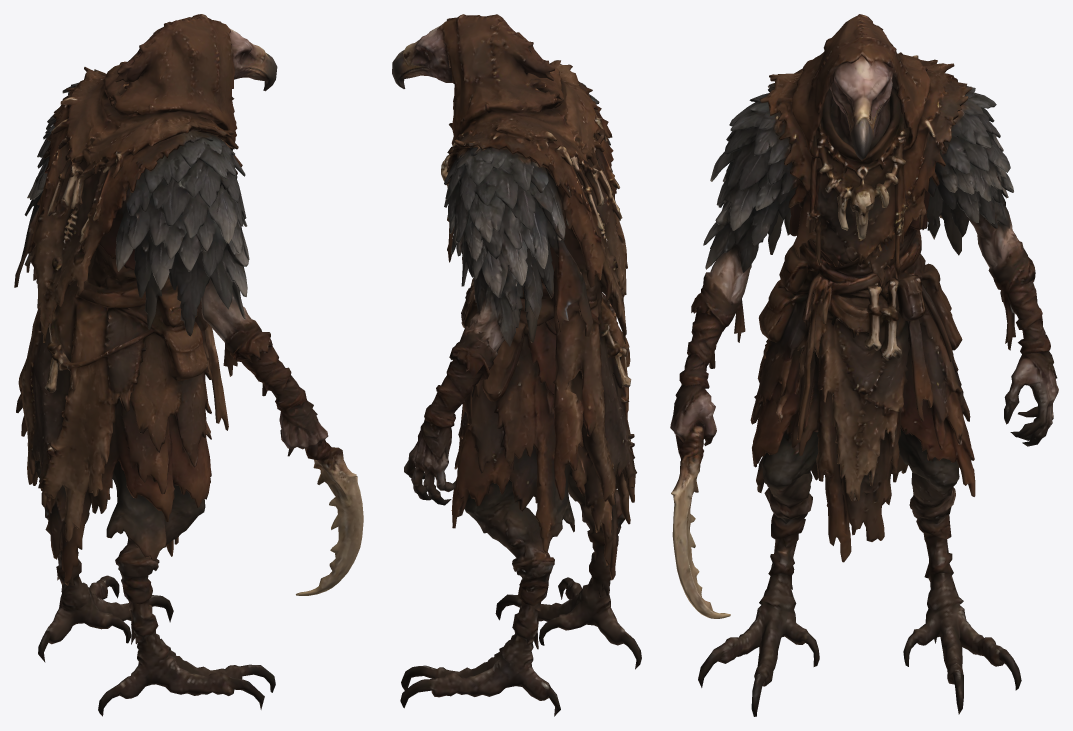
Rendered from BonePicker-tripo.glb.
3 renders of one model, left to right at view 1: azimuth 30°, elevation 25°; view 2: azimuth 150°, elevation 25°; view 3: azimuth 270°, elevation 25°, orthographic. The views are drawn at different scales.
Visible parts, largest first — view 1: tripo_node_38c709bd-18d4-4903-a3d4-74aa33c75d45; view 2: tripo_node_38c709bd-18d4-4903-a3d4-74aa33c75d45; view 3: tripo_node_38c709bd-18d4-4903-a3d4-74aa33c75d45.
Part boxes in pixels (<box>): tripo_node_38c709bd-18d4-4903-a3d4-74aa33c75d45: <box>14,14,363,716</box>; tripo_node_38c709bd-18d4-4903-a3d4-74aa33c75d45: <box>392,14,641,716</box>; tripo_node_38c709bd-18d4-4903-a3d4-74aa33c75d45: <box>670,14,1058,716</box>.
Bounding box in the file's own units: 0.3871 × 1 × 0.5199.
1 material, 1 textured.
